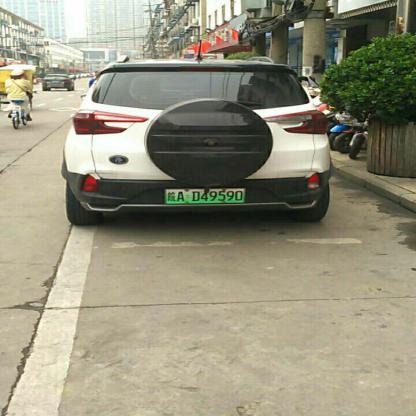lp: (165, 187, 246, 203)
